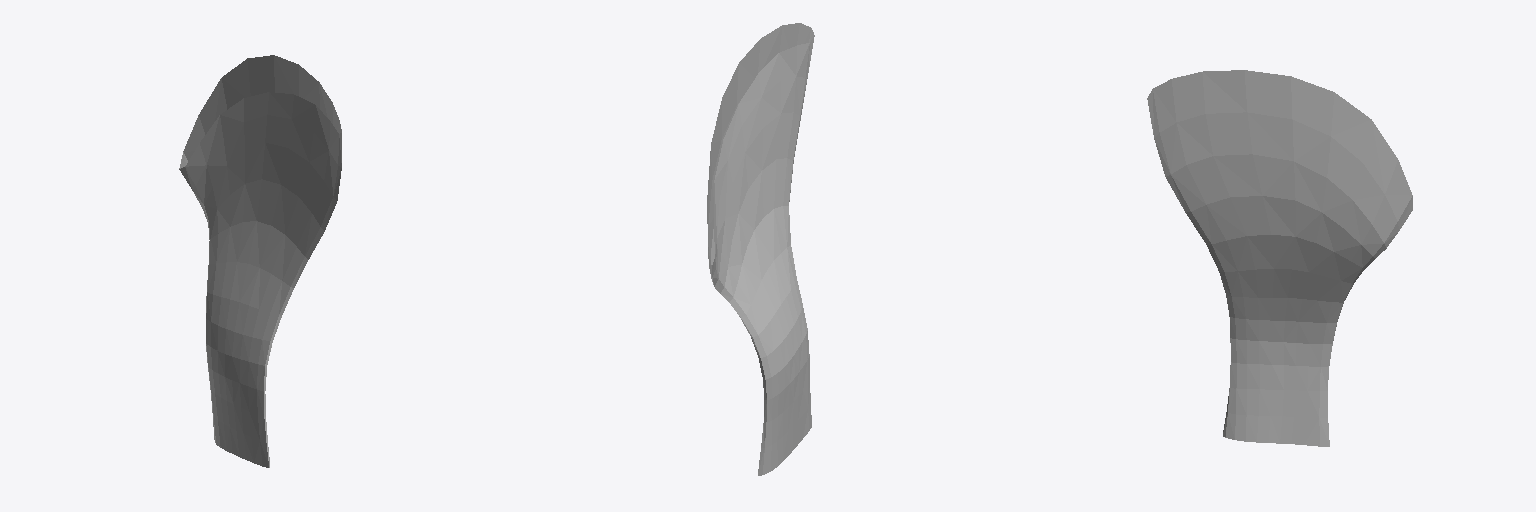
File: superior_auricular_left.obj
3 views of the same model, side by side, from view 1: azimuth 30°, elevation 25°; view 2: azimuth 150°, elevation 25°; view 3: azimuth 270°, elevation 25° (orthographic).
Parts seen in each view (by area): view 1: Superior_Auricular_Muscle_Left; view 2: Superior_Auricular_Muscle_Left; view 3: Superior_Auricular_Muscle_Left.
Part boxes in pixels (bbox=[...]): Superior_Auricular_Muscle_Left: bbox=[179, 55, 341, 467]; Superior_Auricular_Muscle_Left: bbox=[707, 23, 814, 475]; Superior_Auricular_Muscle_Left: bbox=[1147, 70, 1412, 446].
Bounding box in the file's own units: 0.0792 × 0.5419 × 0.329.